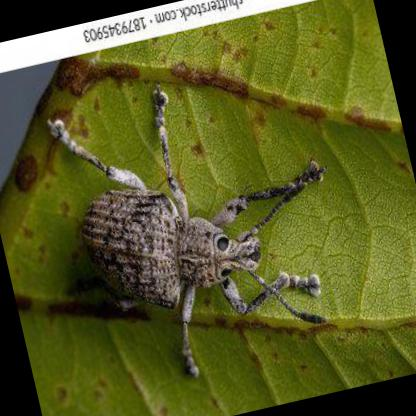ash weevil: (50, 97, 319, 377)
